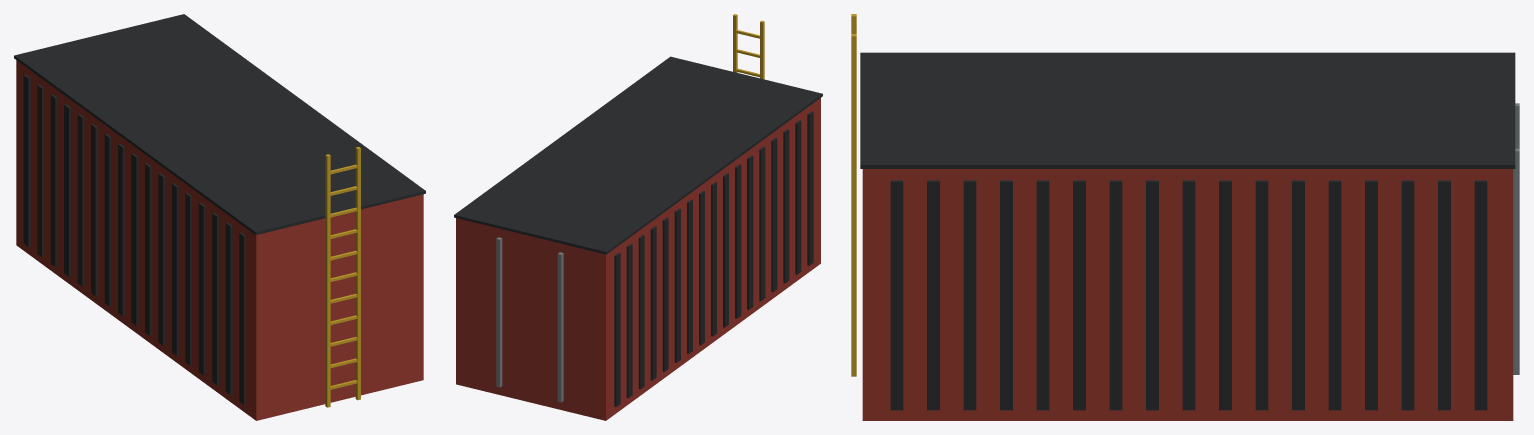
Rendered from container_20ft.glb.
The picture shows the model from 3 angles, left to right: view 1: azimuth 30°, elevation 25°; view 2: azimuth 150°, elevation 25°; view 3: azimuth 270°, elevation 25°; orthographic projection. The views are drawn at different scales.
Parts seen in each view (by area): view 1: container_20ft; view 2: container_20ft; view 3: container_20ft.
Boxes of the visible parts, x1=… form: container_20ft: x1=14, y1=14, x2=425, y2=420; container_20ft: x1=454, y1=14, x2=822, y2=420; container_20ft: x1=851, y1=14, x2=1519, y2=420.
Size of the model in its own units: 2.5 by 3.5 by 6.22.
